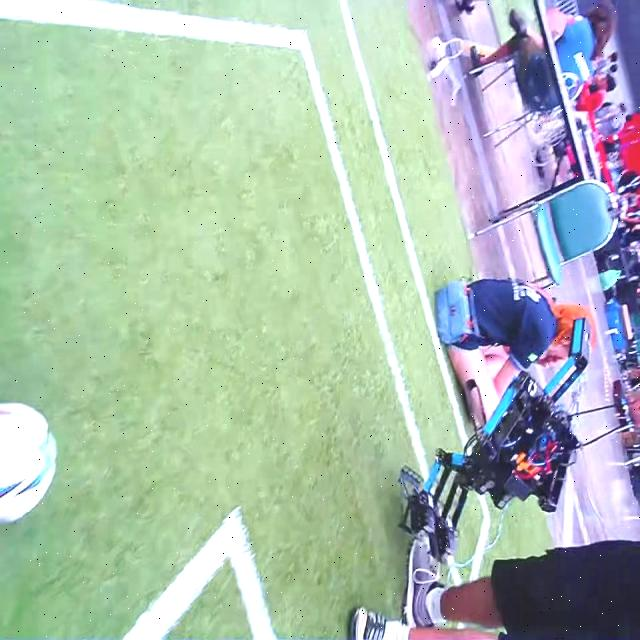ball: (2, 404, 55, 526)
